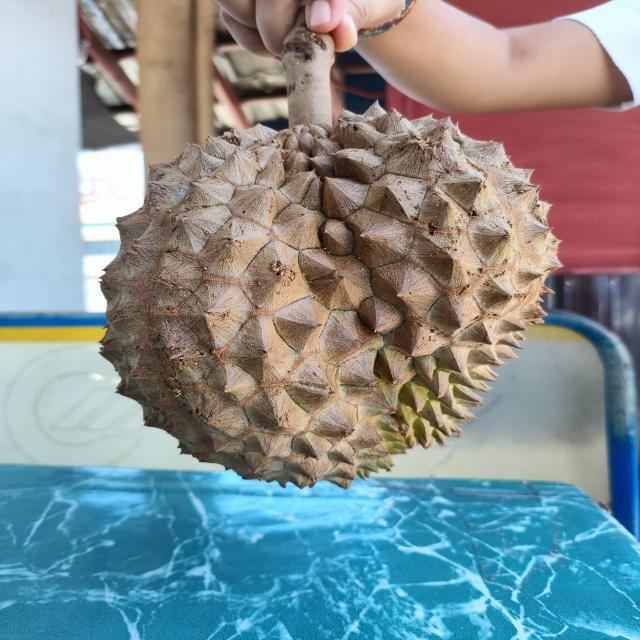mature: (92, 104, 562, 490)
